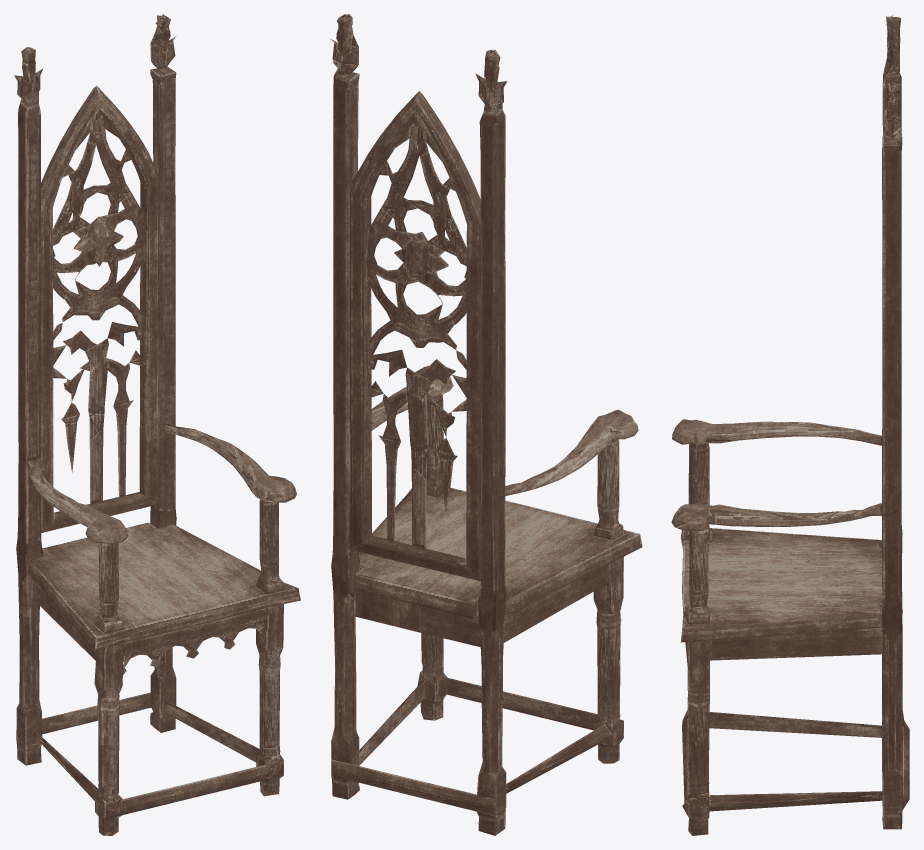
File: WoodenChair_01.glb
3 views of the same model, side by side, from view 1: azimuth 30°, elevation 25°; view 2: azimuth 150°, elevation 25°; view 3: azimuth 270°, elevation 25° (orthographic). The views are drawn at different scales.
Visible parts, largest first — view 1: mesh; view 2: mesh; view 3: mesh.
Part boxes in pixels (x1,y1,x2,y2): mesh: (14,14,300,835); mesh: (331,14,642,835); mesh: (671,15,909,835).
Size of the model in its own units: 27.39 by 90.94 by 26.36.
Materials: 1 (1 with a texture image).
